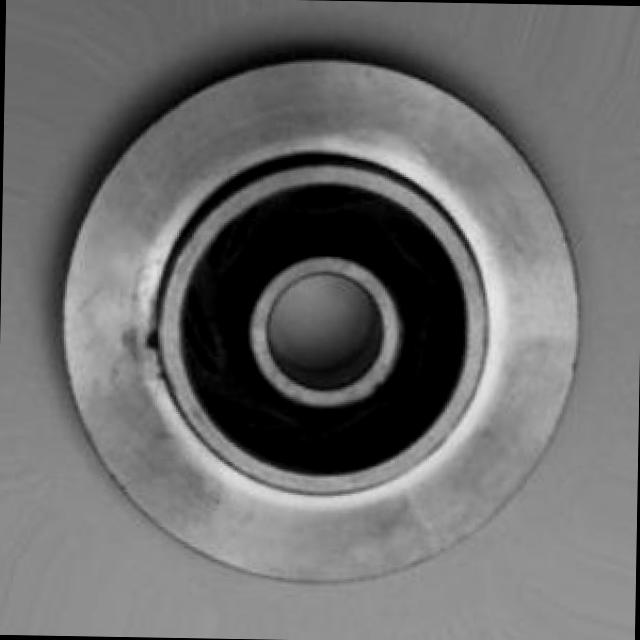Defect: (142, 324, 166, 356)
